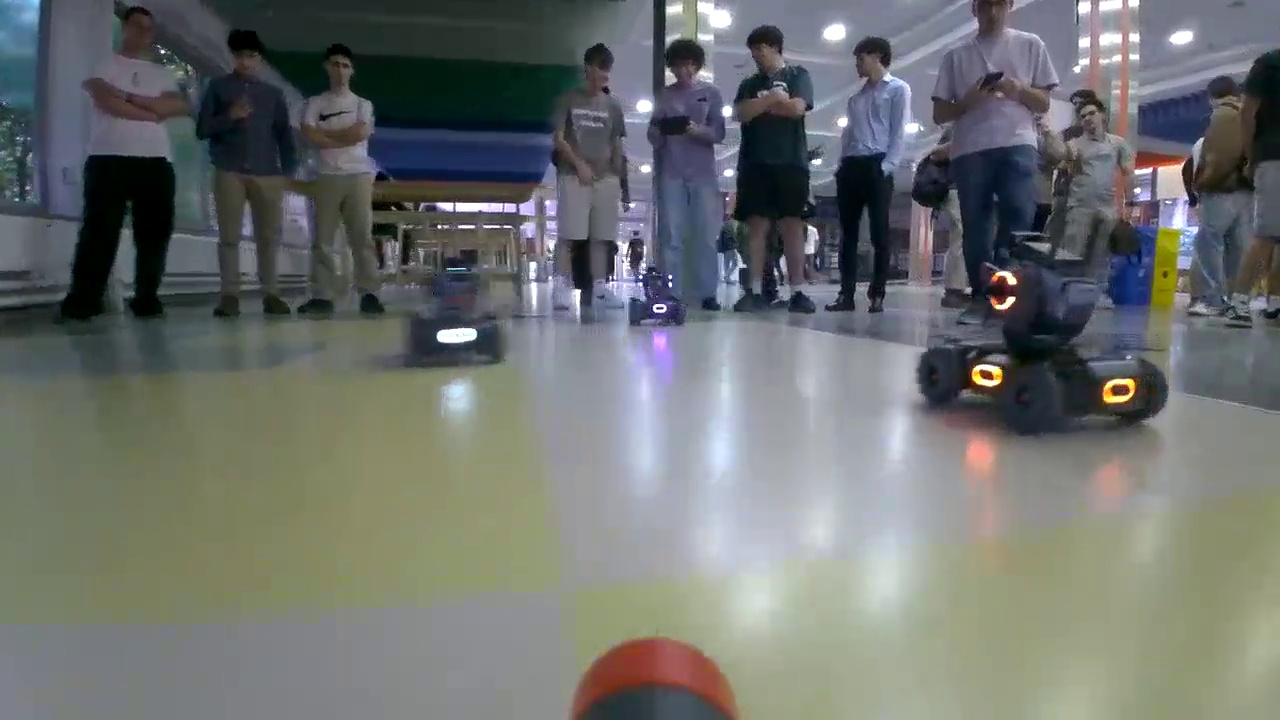robot: (916, 234, 1169, 433), (405, 263, 505, 367), (627, 267, 687, 327)
